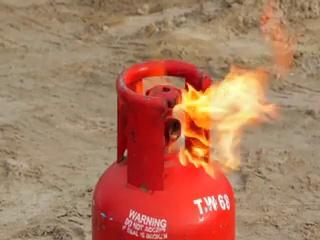Fire: (159, 25, 318, 225)
